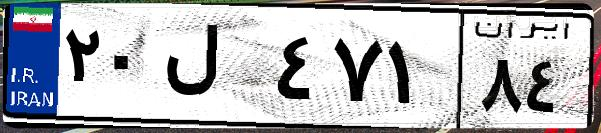0: (110, 28, 158, 98)
1: (385, 28, 445, 110)
2: (57, 26, 110, 100)
4: (270, 28, 330, 110), (525, 38, 570, 115)
7: (330, 28, 385, 110)
8: (475, 38, 525, 113)
ل: (158, 20, 270, 120)
